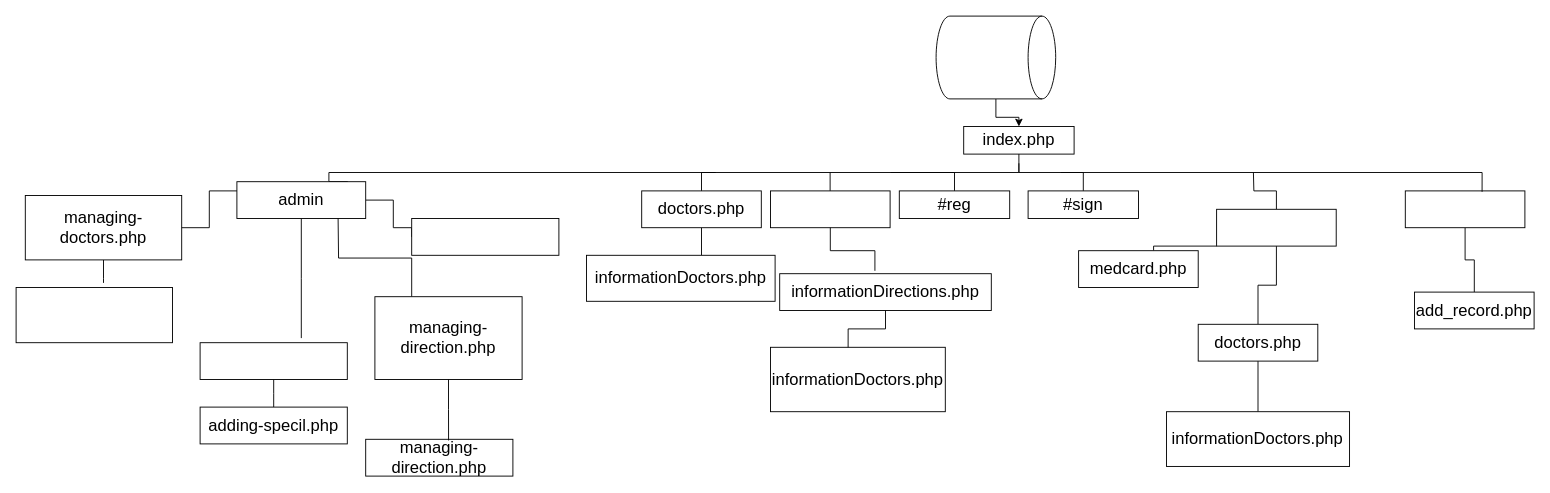
The diagram is 1550 pixels wide and 493 high, and some of its shapes have lost their labels. The shapes that lost their labels are listed below. From the top down, each one's centre as x and y in pixels, then its label:
At [995,57]: "hosptal.sql".
At [830,209]: "directions.php".
At [1276,227]: "personal-cab.php".
At [1464,209]: "doctor/index.php".
At [485,236]: "managing-user.php".
At [93,315]: "adding-doctor.php".
At [273,361]: "managing-specil.php".
